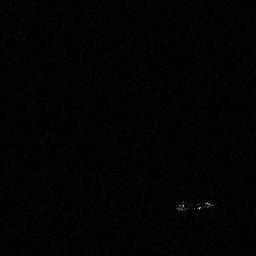ship: (175, 198, 217, 213)
